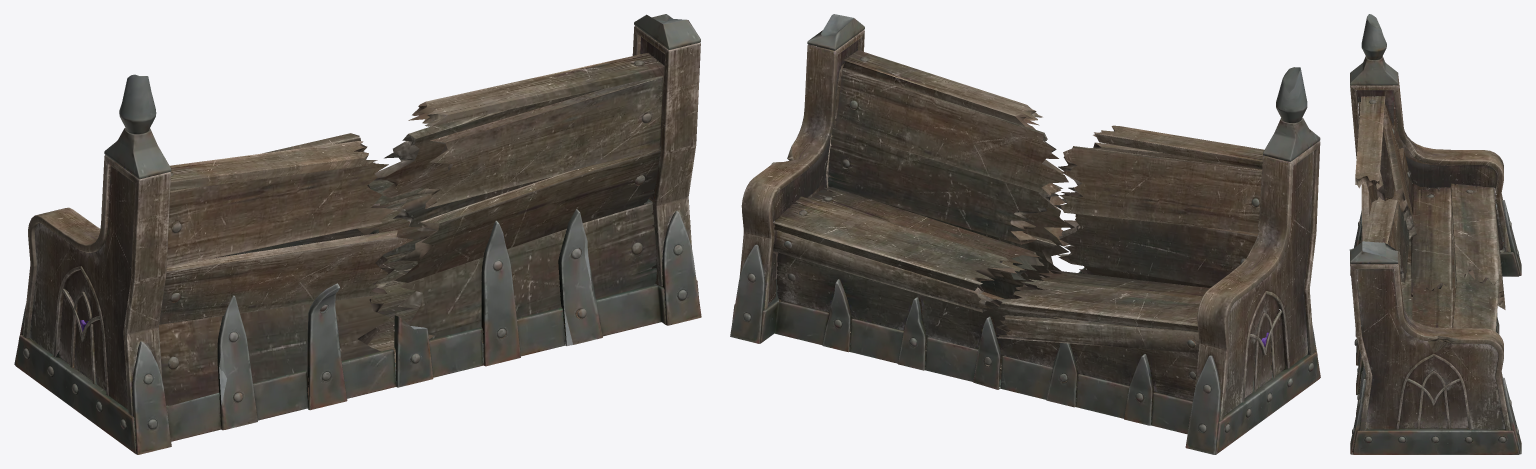
3 views of the same model, side by side, from view 1: azimuth 30°, elevation 25°; view 2: azimuth 150°, elevation 25°; view 3: azimuth 270°, elevation 25° (orthographic). The views are drawn at different scales.
Visible parts, largest first — view 1: SM_Temple_Pew_01v2_LOD0; view 2: SM_Temple_Pew_01v2_LOD0; view 3: SM_Temple_Pew_01v2_LOD0.
Part boxes in pixels (<box>): SM_Temple_Pew_01v2_LOD0: <box>14,14,701,454</box>; SM_Temple_Pew_01v2_LOD0: <box>730,14,1320,454</box>; SM_Temple_Pew_01v2_LOD0: <box>1349,14,1521,454</box>.
Bounding box in the file's own units: 2.91 × 1.8 × 1.1.
1 material, 1 textured.
